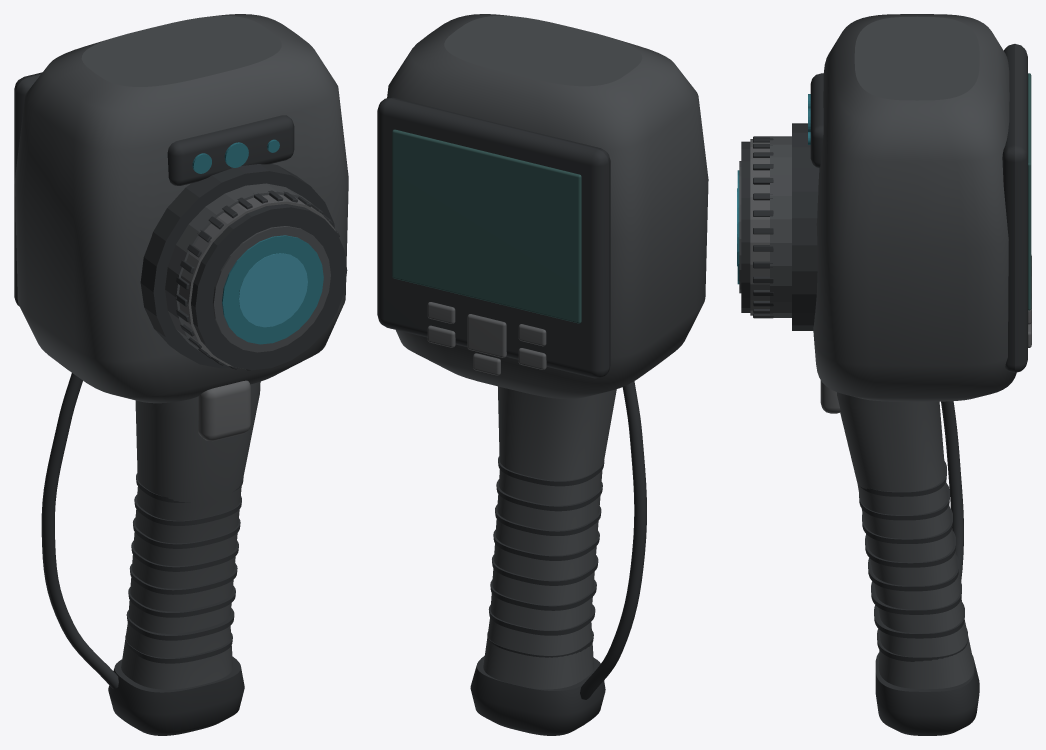
3 views of the same model, side by side, from view 1: azimuth 30°, elevation 25°; view 2: azimuth 150°, elevation 25°; view 3: azimuth 270°, elevation 25° (orthographic).
Parts seen in each view (by area): view 1: Head_shell, Pistol_grip, Lens_rim, Lens_collar, Battery_foot, Germanium_window, Alignment_sensor_panel, Hand_strap, Window_center, Lens_recess, Lens_barrel, Trigger_capture (+9 smaller); view 2: Head_shell, Touch_panel, Pistol_grip, Rear_display_bezel, Battery_foot, Hand_strap, Key_Menu, Grip_welt_6, Grip_welt_4, Grip_welt_5, Grip_welt_3, Grip_welt_2 (+2 smaller); view 3: Head_shell, Pistol_grip, Rear_display_bezel, Lens_collar, Battery_foot, Lens_barrel, Focus_ring, Hand_strap, Lens_rim, Alignment_sensor_panel, Touch_panel, Grip_welt_1 (+6 smaller).
Part boxes in pixels (x1,y1,x2,y2): Head_shell: [14, 14, 348, 403]; Pistol_grip: [121, 381, 260, 689]; Lens_rim: [191, 204, 347, 370]; Lens_collar: [140, 164, 334, 368]; Battery_foot: [108, 656, 244, 735]; Germanium_window: [222, 235, 323, 344]; Alignment_sensor_panel: [167, 115, 294, 185]; Hand_strap: [41, 373, 118, 688]; Window_center: [238, 253, 307, 327]; Lens_recess: [212, 226, 330, 352]; Lens_barrel: [165, 183, 311, 351]; Trigger_capture: [198, 380, 250, 441]; Head_shell: [387, 14, 708, 398]; Touch_panel: [392, 129, 581, 323]; Pistol_grip: [483, 386, 616, 689]; Rear_display_bezel: [377, 97, 610, 378]; Battery_foot: [470, 656, 605, 735]; Hand_strap: [580, 381, 646, 699]; Key_Menu: [467, 314, 506, 357]; Grip_welt_6: [496, 479, 602, 511]; Grip_welt_4: [493, 529, 599, 560]; Grip_welt_5: [495, 504, 601, 535]; Grip_welt_3: [492, 554, 598, 585]; Grip_welt_2: [490, 579, 596, 610]; Head_shell: [813, 14, 1016, 401]; Pistol_grip: [837, 392, 973, 689]; Rear_display_bezel: [1002, 44, 1027, 372]; Lens_collar: [792, 123, 819, 330]; Battery_foot: [875, 652, 979, 735]; Lens_barrel: [770, 136, 791, 317]; Focus_ring: [750, 139, 769, 315]; Hand_strap: [941, 401, 963, 581]; Lens_rim: [741, 141, 750, 312]; Alignment_sensor_panel: [810, 73, 823, 167]; Touch_panel: [1028, 73, 1031, 310]; Grip_welt_1: [874, 602, 964, 638].
Size of the model in its own units: 0.1161 by 0.2784 by 0.1131.
